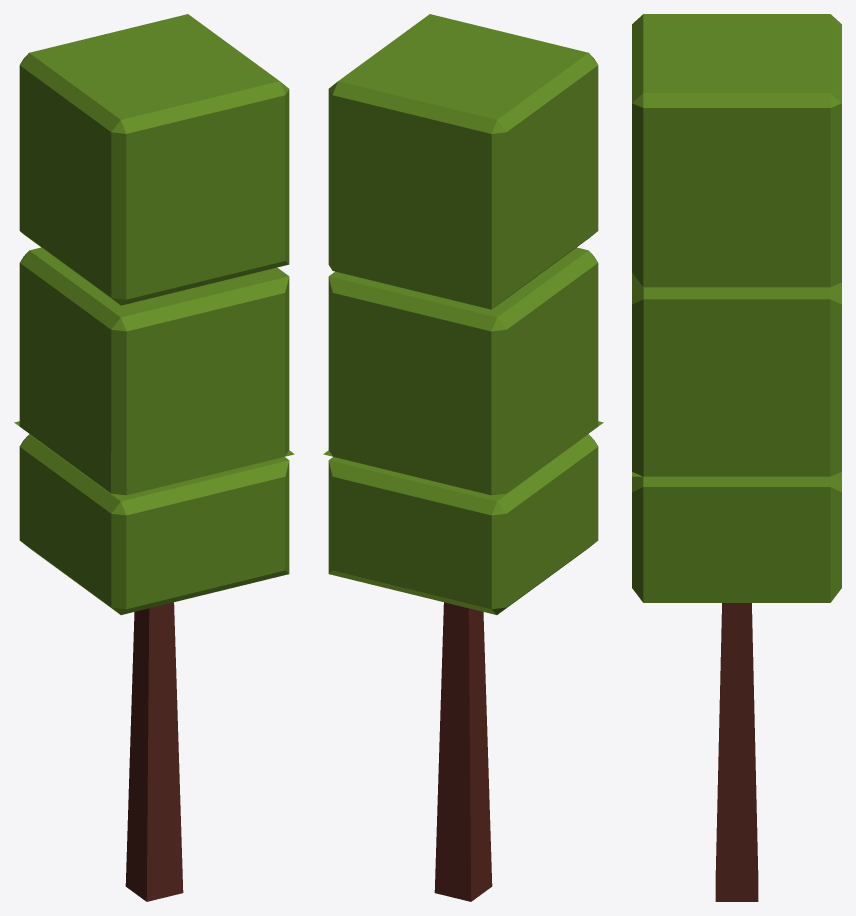
Rendered from tree3.fbx.
3 renders of one model, left to right at view 1: azimuth 30°, elevation 25°; view 2: azimuth 150°, elevation 25°; view 3: azimuth 270°, elevation 25°, orthographic. The views are drawn at different scales.
Parts seen in each view (by area): view 1: Cube.002; view 2: Cube.002; view 3: Cube.002.
Part boxes in pixels (x1,y1,x2,y2): Cube.002: [14, 14, 294, 901]; Cube.002: [323, 14, 603, 901]; Cube.002: [632, 14, 841, 901].
Bounding box in the file's own units: 153 × 677 × 153.
